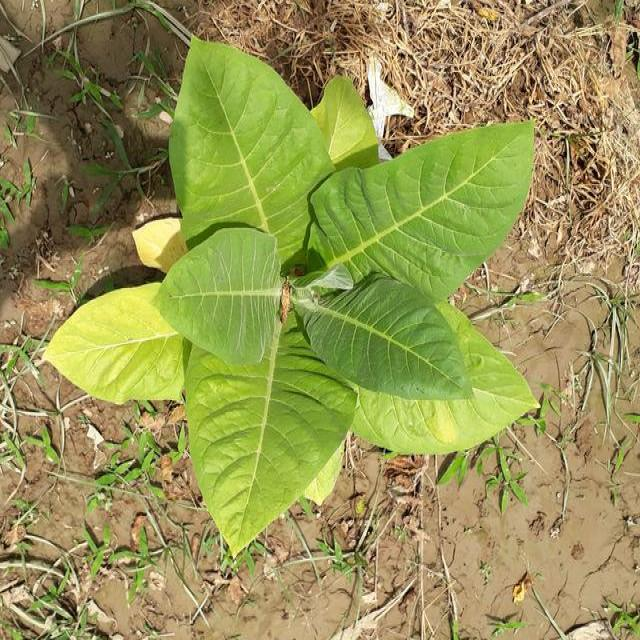crop: (70, 42, 526, 538)
